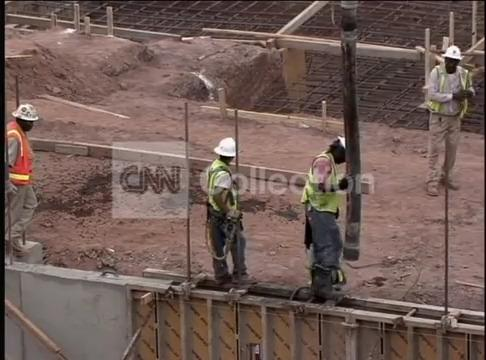Gloves: (5, 180, 20, 198)
Helmet: (11, 103, 38, 121), (217, 137, 240, 157), (441, 44, 463, 60)
Person: (419, 40, 477, 205), (198, 138, 255, 287), (300, 135, 349, 295), (2, 96, 47, 264)
Safety Boot: (314, 280, 340, 299), (5, 237, 27, 257), (232, 268, 259, 283), (214, 272, 237, 283), (440, 180, 459, 193), (425, 183, 439, 196)
Safety Vest: (308, 153, 342, 211), (2, 128, 32, 180), (427, 70, 461, 114)
bare-arms: (453, 89, 471, 102)
